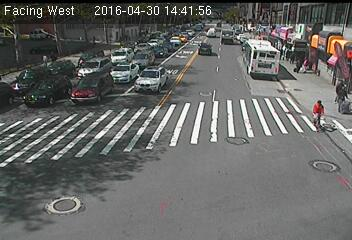neg: (224, 169, 259, 217), (149, 74, 181, 117), (171, 134, 202, 175), (307, 98, 335, 135), (211, 48, 238, 83), (45, 101, 71, 136), (266, 41, 288, 71), (63, 167, 85, 195), (49, 47, 67, 71), (108, 200, 122, 219)
pos: (331, 79, 351, 109), (292, 56, 305, 73)
